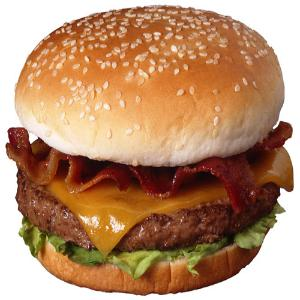cheeseburger: (9, 6, 296, 291)
